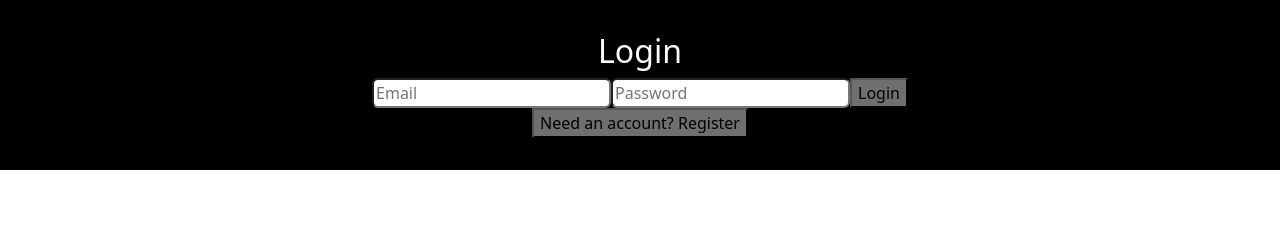
Test case: Auth Component › Login Mode › handles login error
Type "test@example.com" into the field with test id "email-input" at (492, 93), box [372,78,611,108]
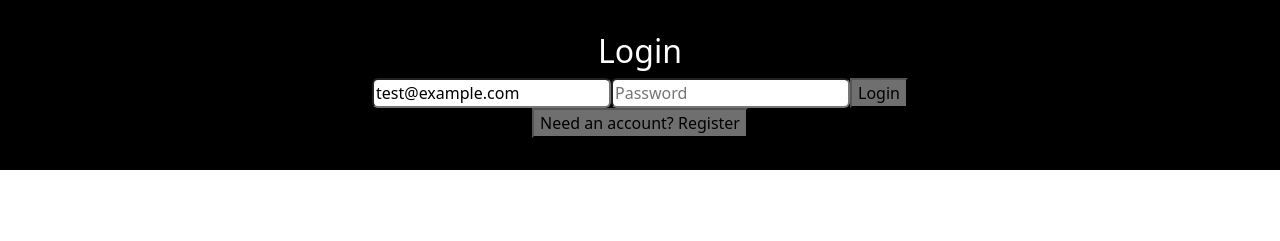
Type "password123" into the password field with test id "password-input" at (730, 93), box [611,78,850,108]
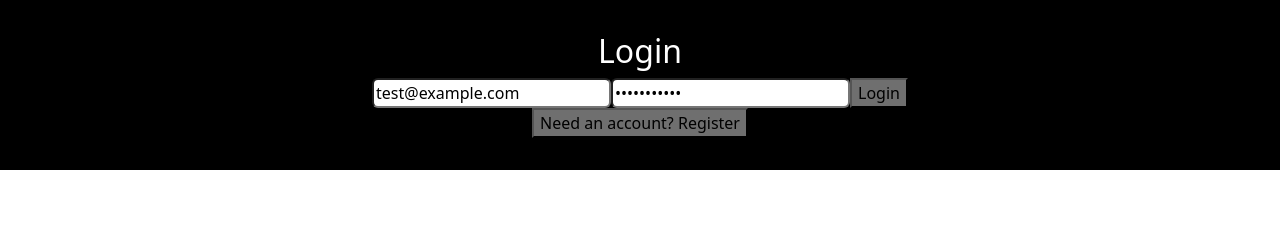
Click the button with test id "submit-button" at (879, 93), box [850,78,908,108]
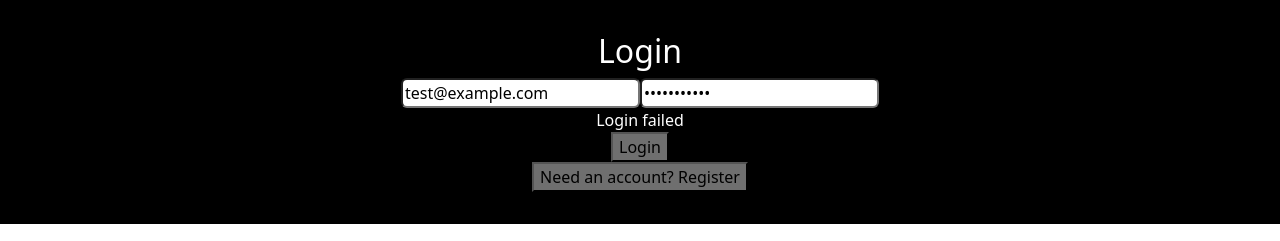
Now the text with test id "error-message" reads "Login failed", box [596,109,684,131]
